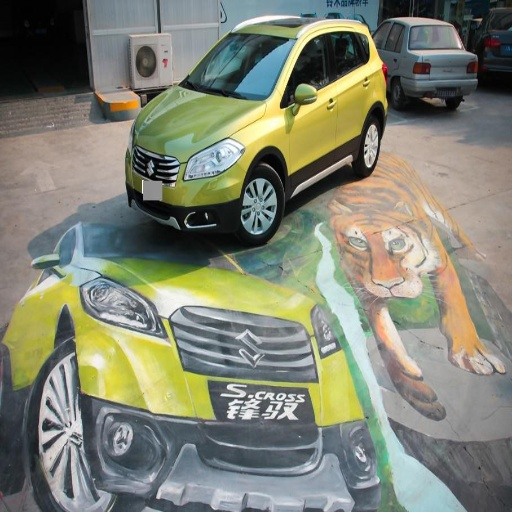front_bumper: (77, 304, 325, 501), (128, 148, 240, 233)
front_glass: (180, 34, 292, 100)
front_left_door: (285, 30, 338, 185)
front_right_light: (83, 275, 170, 341)
